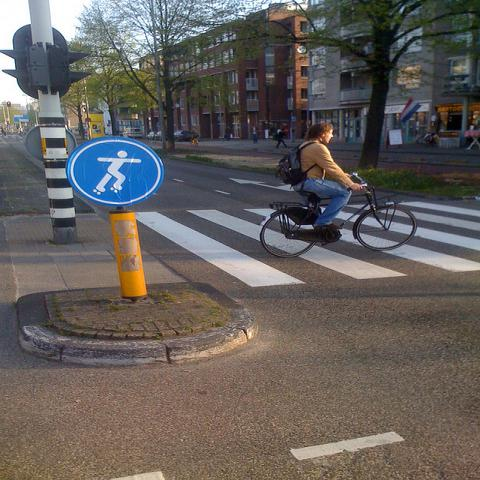car: (174, 130, 192, 142), (153, 131, 162, 140)
